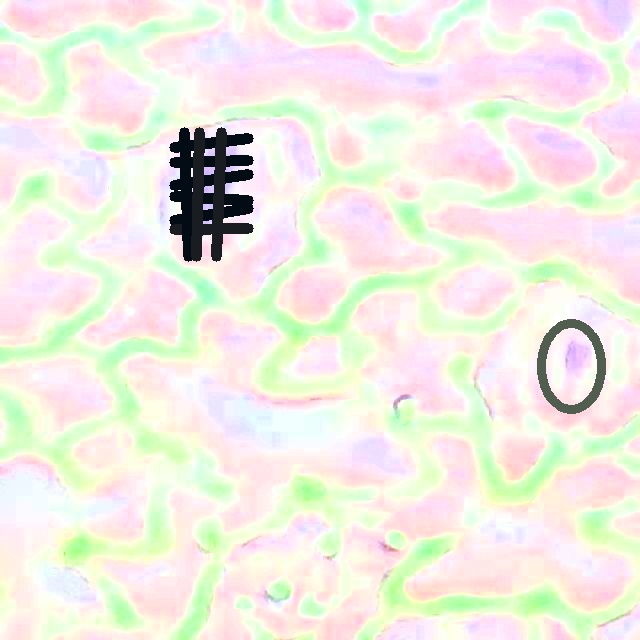open: (169, 128, 253, 260), (536, 319, 606, 414)
